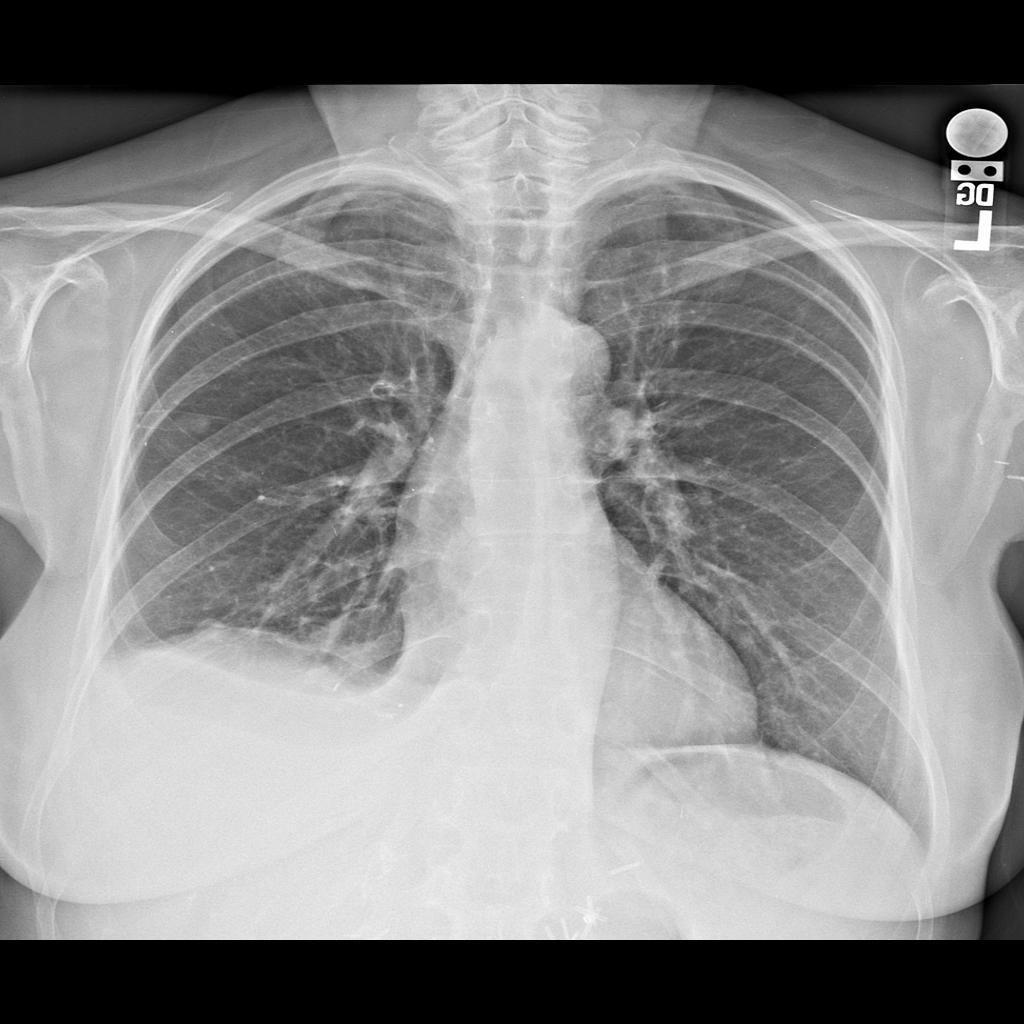Nodule: (187, 417, 223, 443)
